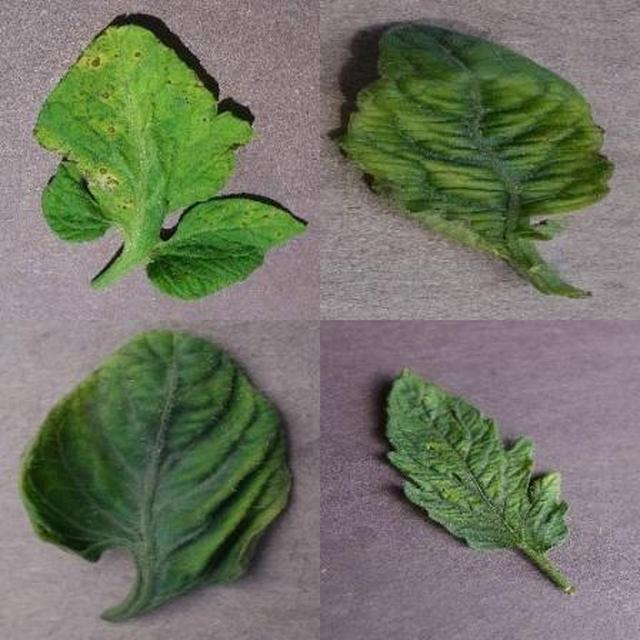Septoria Leaf: (207, 153, 640, 640)
